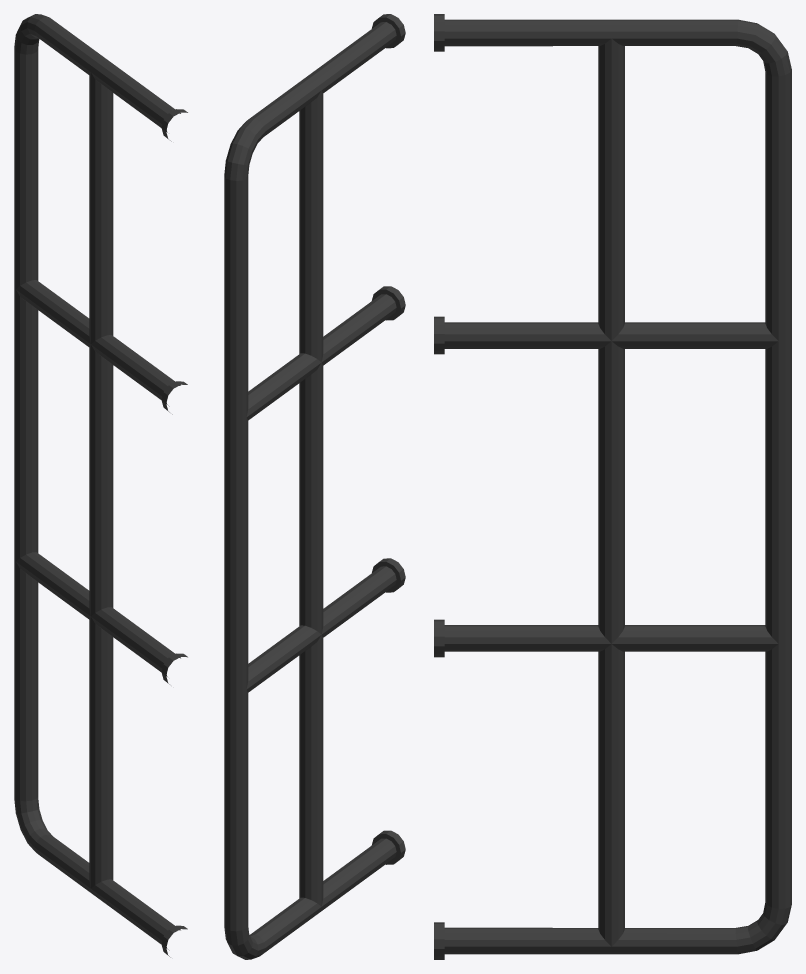
The picture shows the model from 3 angles, left to right: view 1: azimuth 30°, elevation 25°; view 2: azimuth 150°, elevation 25°; view 3: azimuth 270°, elevation 25°; orthographic projection. The views are drawn at different scales.
Visible parts, largest first — view 1: rail_double_3_Plane.020; view 2: rail_double_3_Plane.020; view 3: rail_double_3_Plane.020.
Boxes of the visible parts, bbox=[...] form: rail_double_3_Plane.020: bbox=[14, 14, 187, 957]; rail_double_3_Plane.020: bbox=[224, 14, 405, 959]; rail_double_3_Plane.020: bbox=[434, 14, 791, 959].
Bounding box in the file's own units: 0.2269 × 6.23 × 2.14.
Materials: 1 (1 with a texture image).
